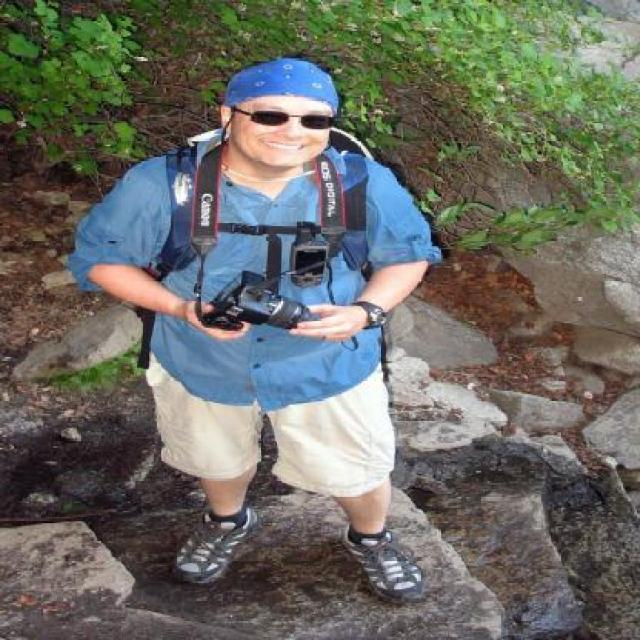backpack: (156, 146, 204, 277), (329, 154, 377, 275)
